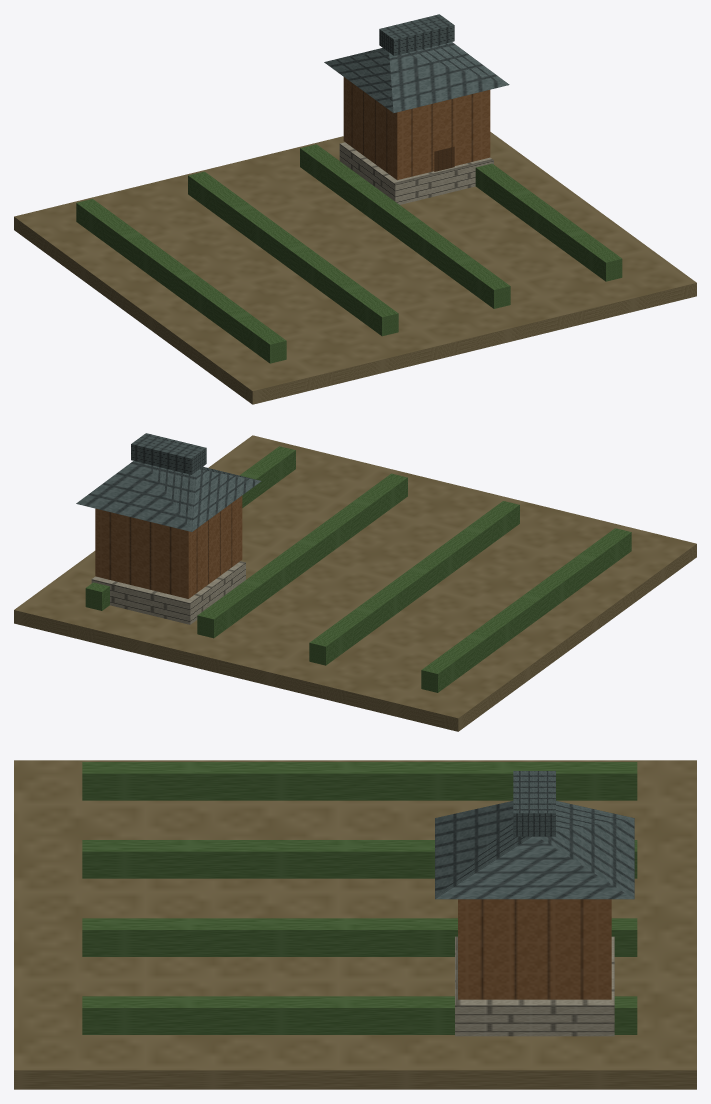
File: domestic-FARM-1-lod2.glb
3 renders of one model, top to bottom at view 1: azimuth 30°, elevation 25°; view 2: azimuth 150°, elevation 25°; view 3: azimuth 270°, elevation 25°, orthographic. The views are drawn at different scales.
Bounding box in the file's own units: 0.86 × 0.296 × 0.8.
1 material, 1 textured.
